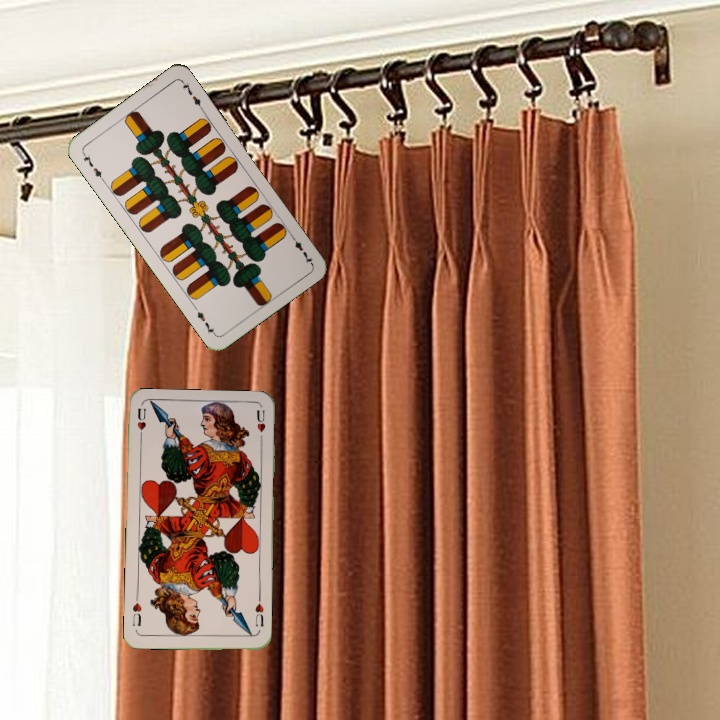E7: (78, 149, 107, 184), (286, 231, 315, 266)
HU: (133, 405, 148, 444), (251, 599, 266, 629)
